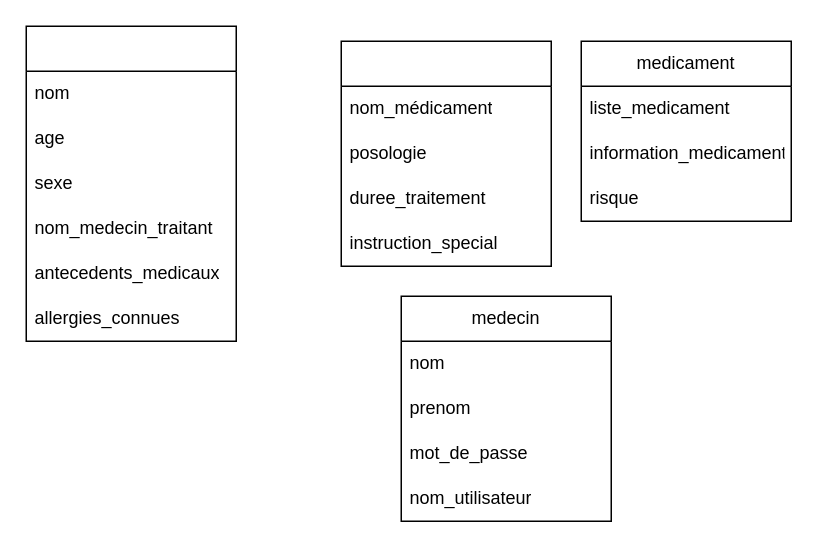
This 818x548 diagram has some shape labels left out. Each missing label, with the box of its shape:
ordonnance: (340, 40, 551, 266)
Patient: (25, 25, 236, 341)
